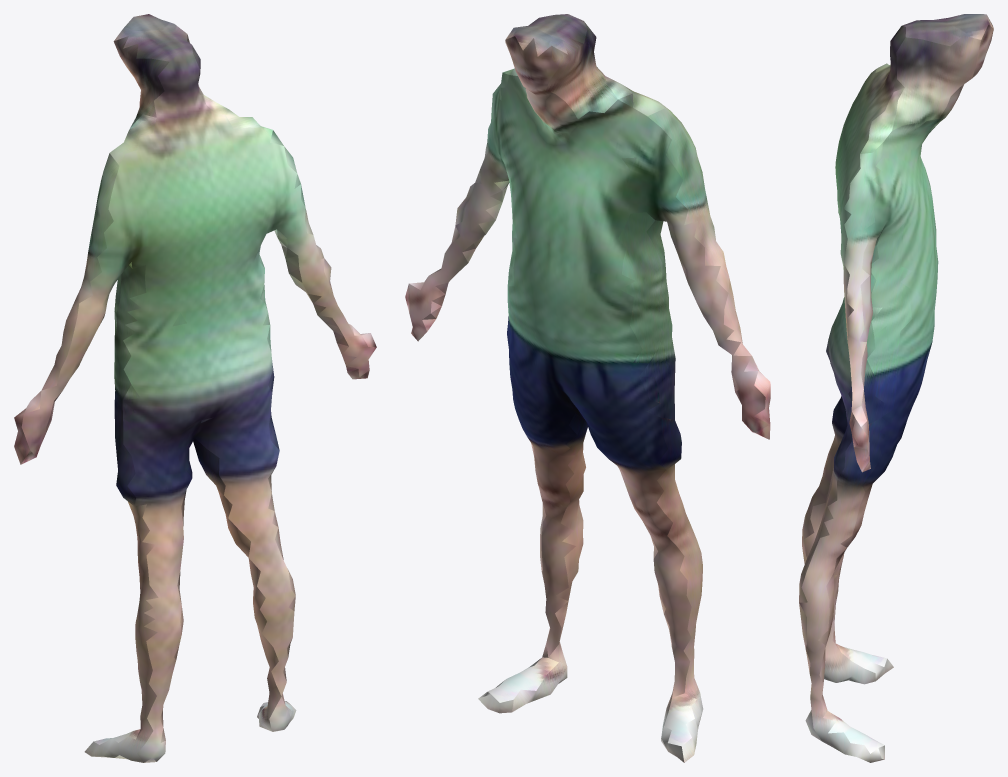
The picture shows the model from 3 angles, left to right: view 1: azimuth 30°, elevation 25°; view 2: azimuth 150°, elevation 25°; view 3: azimuth 270°, elevation 25°; orthographic projection. The views are drawn at different scales.
Parts seen in each view (by area): view 1: world; view 2: world; view 3: world.
Part boxes in pixels (box(x1,y1,x2,y2)): world: box(14, 14, 376, 762); world: box(405, 14, 770, 762); world: box(799, 14, 993, 762).
Bounding box in the file's own units: 0.5178 × 0.9632 × 0.2422.
1 material, 1 textured.
